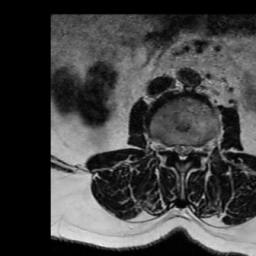CCS_stenosis: (179, 136, 186, 166)
LFS_normal: (193, 136, 201, 159)
LLS_stenosis: (187, 136, 193, 161)
RFS_stenosis: (164, 135, 172, 157)
RLS_stenosis: (172, 136, 179, 158)
